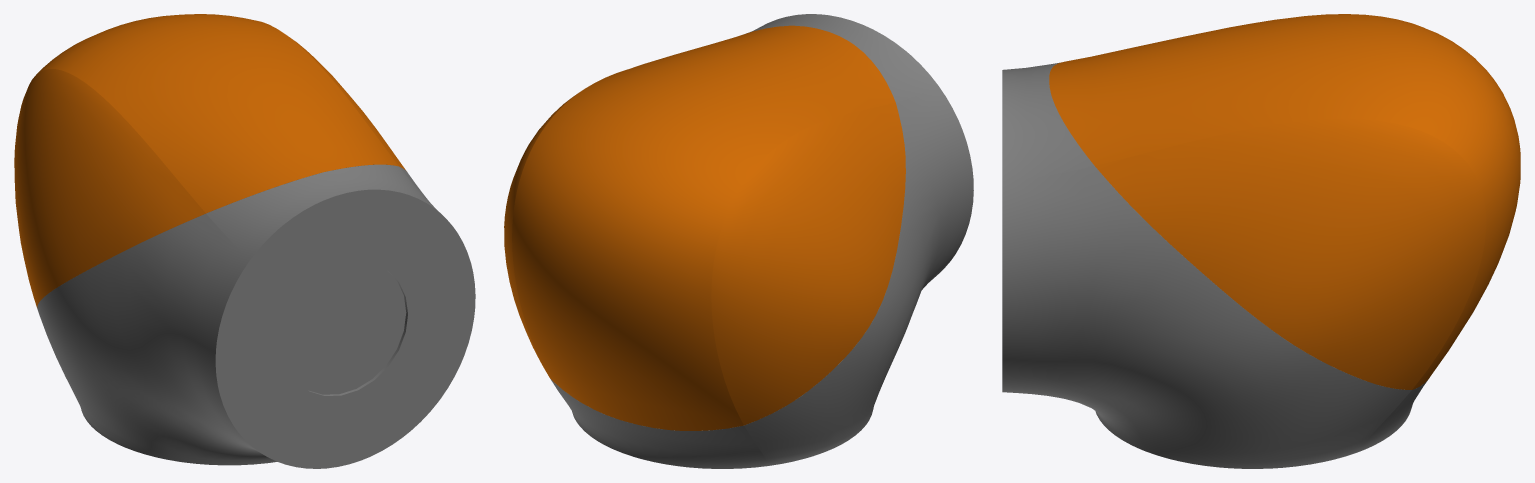
The picture shows the model from 3 angles, left to right: view 1: azimuth 30°, elevation 25°; view 2: azimuth 150°, elevation 25°; view 3: azimuth 270°, elevation 25°; orthographic projection. The views are drawn at different scales.
Parts seen in each view (by area): view 1: _3DGeom_1, _3DGeom_2; view 2: _3DGeom_2, _3DGeom_1; view 3: _3DGeom_2, _3DGeom_1.
Boxes of the visible parts, bbox=[...] form: _3DGeom_1: bbox=[37, 164, 475, 468]; _3DGeom_2: bbox=[14, 14, 405, 307]; _3DGeom_2: bbox=[504, 25, 905, 430]; _3DGeom_1: bbox=[550, 14, 973, 468]; _3DGeom_2: bbox=[1049, 14, 1520, 389]; _3DGeom_1: bbox=[1002, 62, 1427, 468].
Size of the model in its own units: 0.1323 by 0.1673 by 0.1289.
